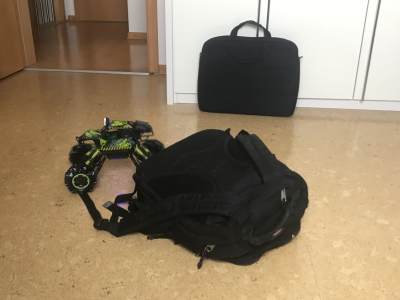remote control car: (62, 115, 169, 193)
